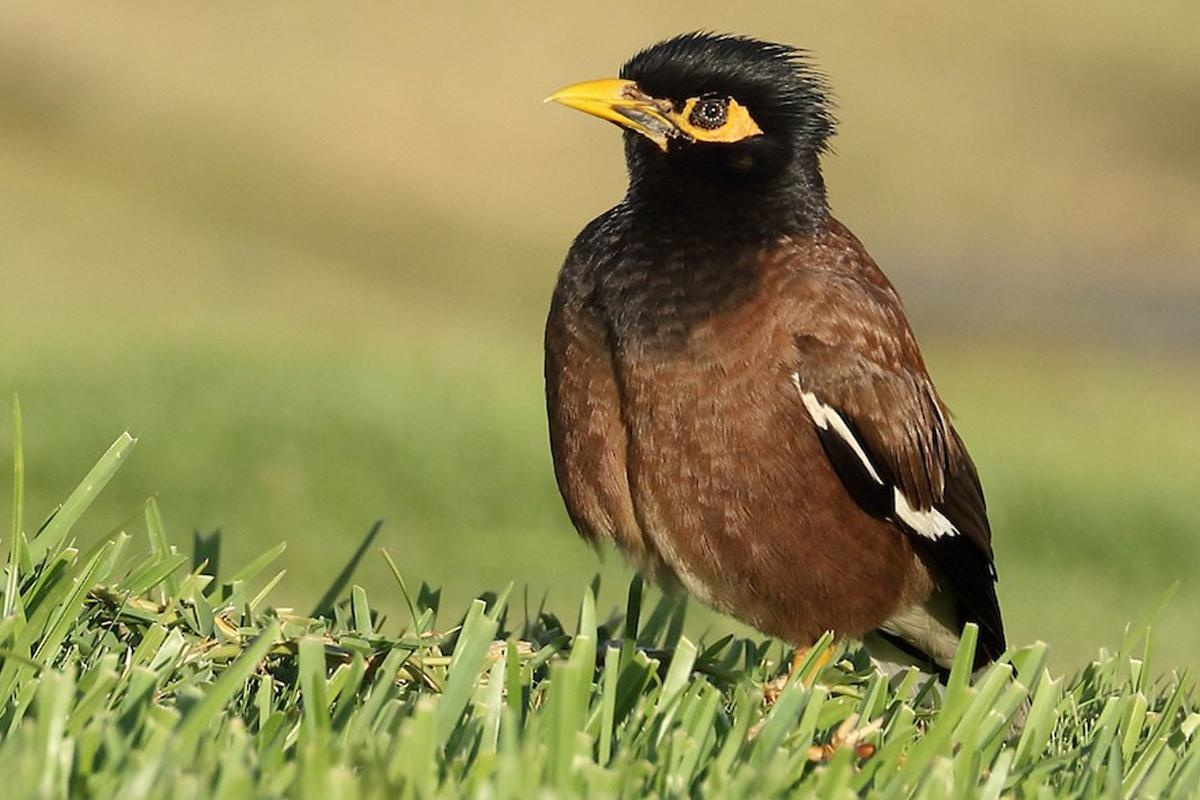myna: (555, 18, 1073, 688)
